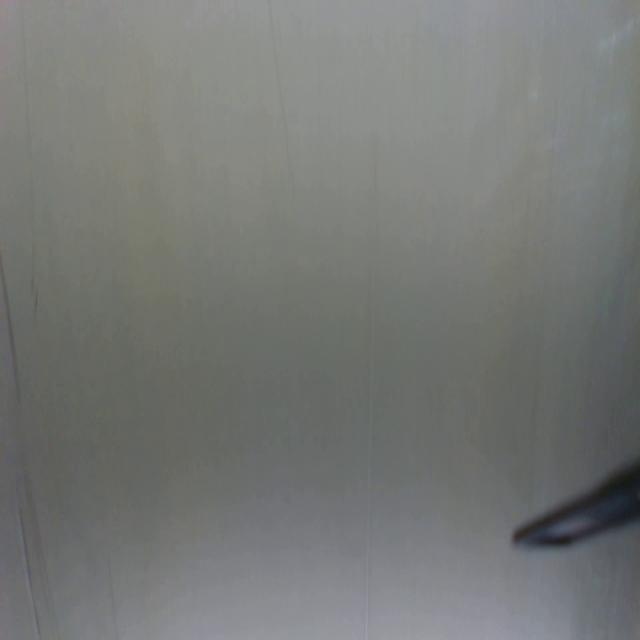crease: (363, 148, 377, 640), (267, 0, 296, 186), (20, 11, 38, 300), (0, 254, 23, 411), (17, 500, 41, 640)
